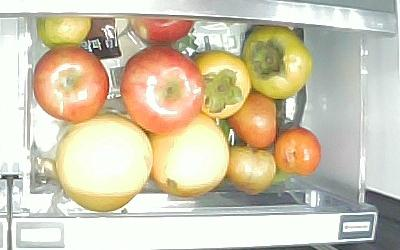apple: (119, 44, 202, 134), (32, 46, 109, 122), (124, 14, 196, 45)
grapefruit: (54, 112, 154, 213), (146, 109, 231, 199)
persimmon: (242, 25, 313, 99), (190, 49, 251, 119)
prune: (227, 91, 277, 149), (226, 146, 277, 195), (275, 127, 323, 176), (36, 14, 92, 48)
